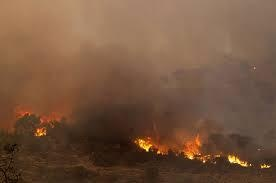fire: (132, 129, 211, 158), (30, 109, 63, 136), (225, 149, 269, 167)
